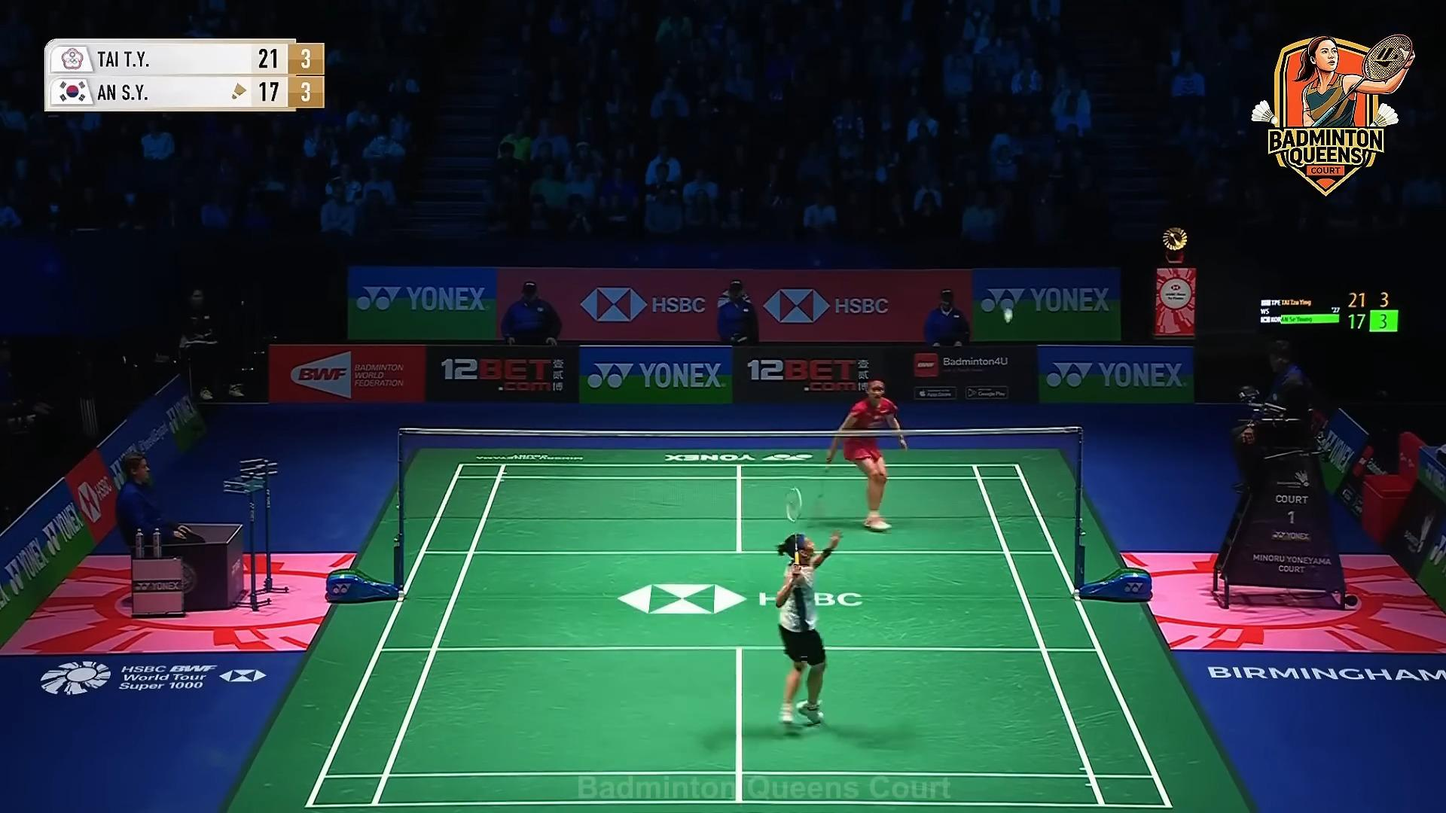player: (774, 528, 841, 727), (825, 374, 908, 533)
shuttlecock: (1002, 306, 1014, 324)
